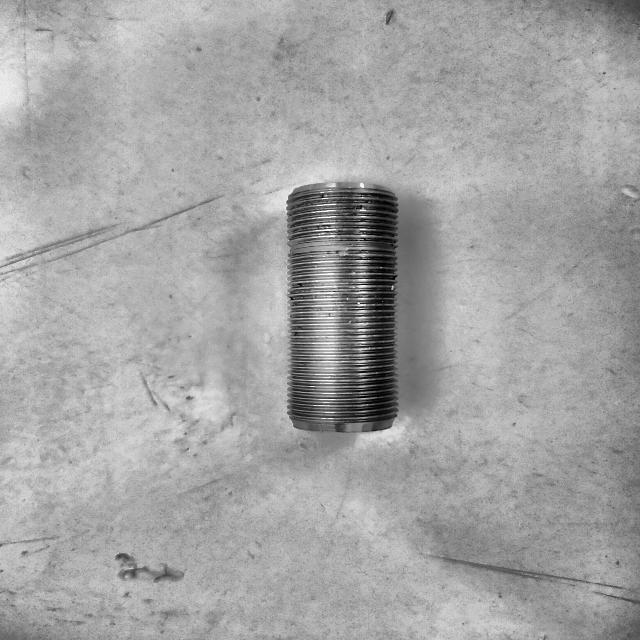Broken: (284, 178, 402, 439)
